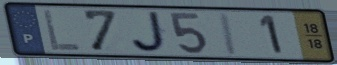1: (256, 14, 285, 57)
5: (167, 11, 211, 55)
7: (80, 8, 121, 54)
I: (217, 11, 241, 58)
J: (129, 10, 171, 55)
L: (41, 8, 84, 52)
